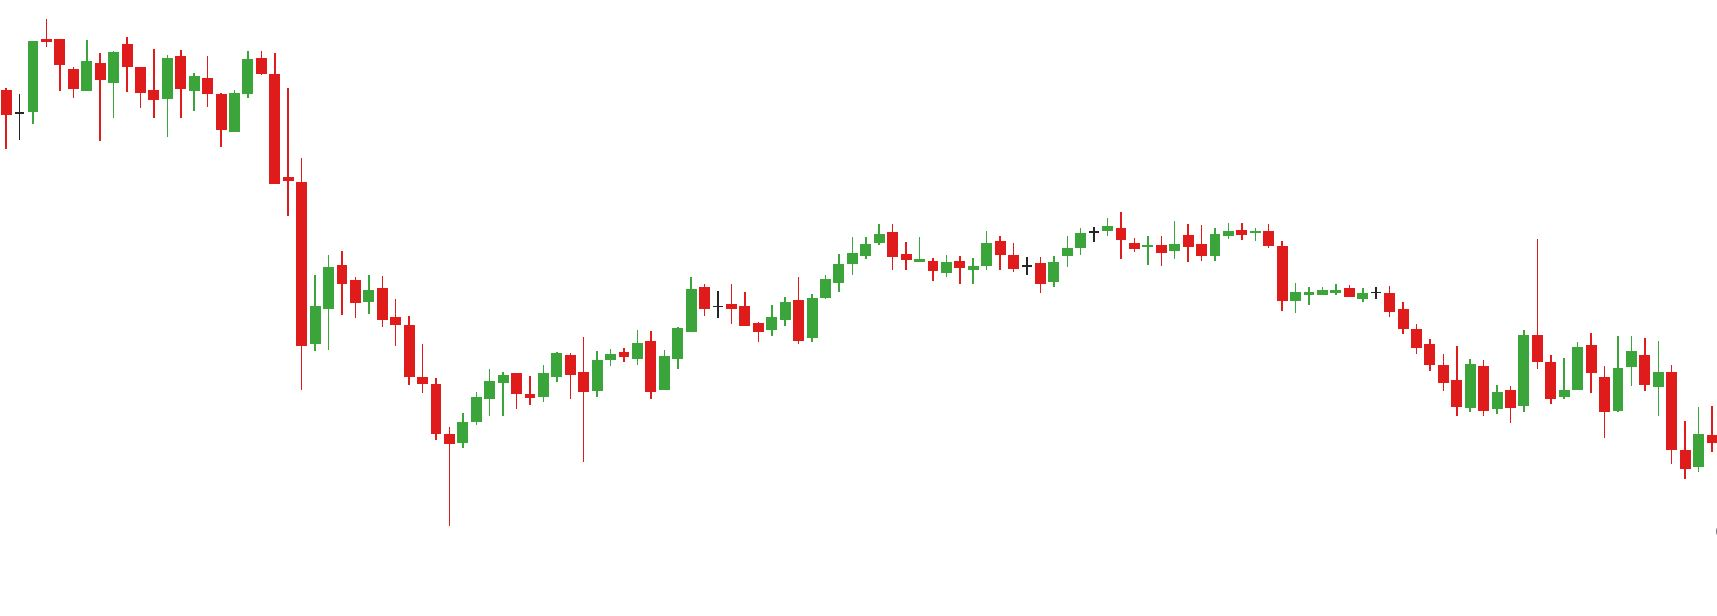sell: (1379, 228, 1546, 383)
